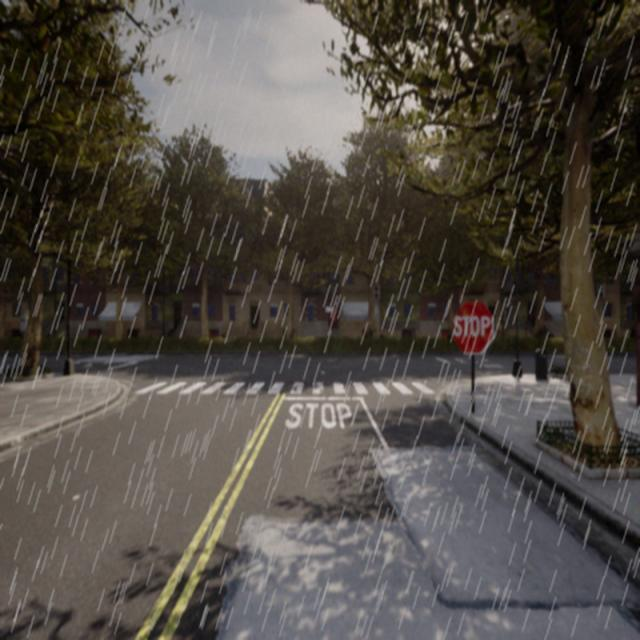stop sign: (449, 296, 495, 358)
